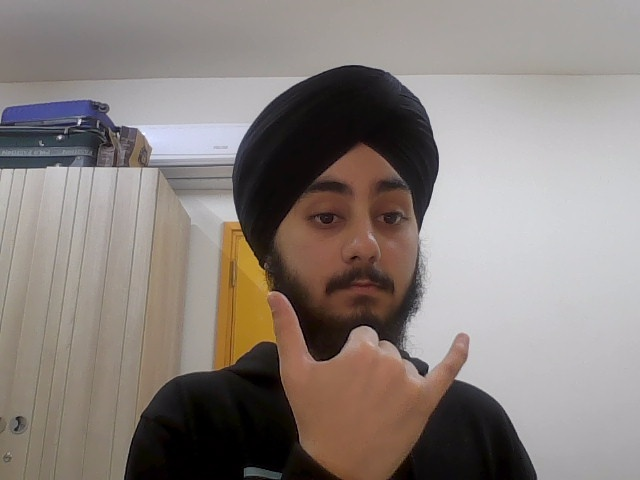Wrong: (262, 286, 481, 480)
